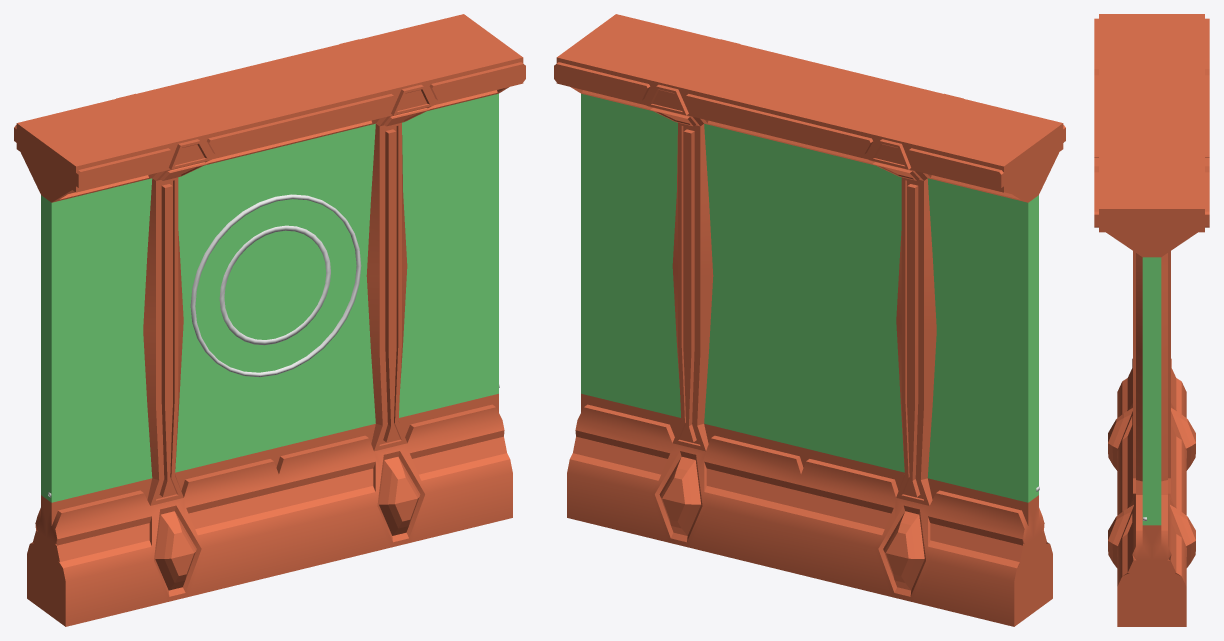
The model's file is MurVitrée.fbx.
3 views of the same model, side by side, from view 1: azimuth 30°, elevation 25°; view 2: azimuth 150°, elevation 25°; view 3: azimuth 270°, elevation 25° (orthographic). The views are drawn at different scales.
Visible parts, largest first — view 1: Mur_Vitrée, Circle.001; view 2: Mur_Vitrée; view 3: Mur_Vitrée.
Part boxes in pixels (bbox=[...]): Mur_Vitrée: bbox=[14, 14, 525, 626]; Circle.001: bbox=[48, 194, 499, 497]; Mur_Vitrée: bbox=[554, 14, 1065, 626]; Mur_Vitrée: bbox=[1094, 14, 1209, 626].
Bounding box in the file's own units: 201 × 200 × 50.
